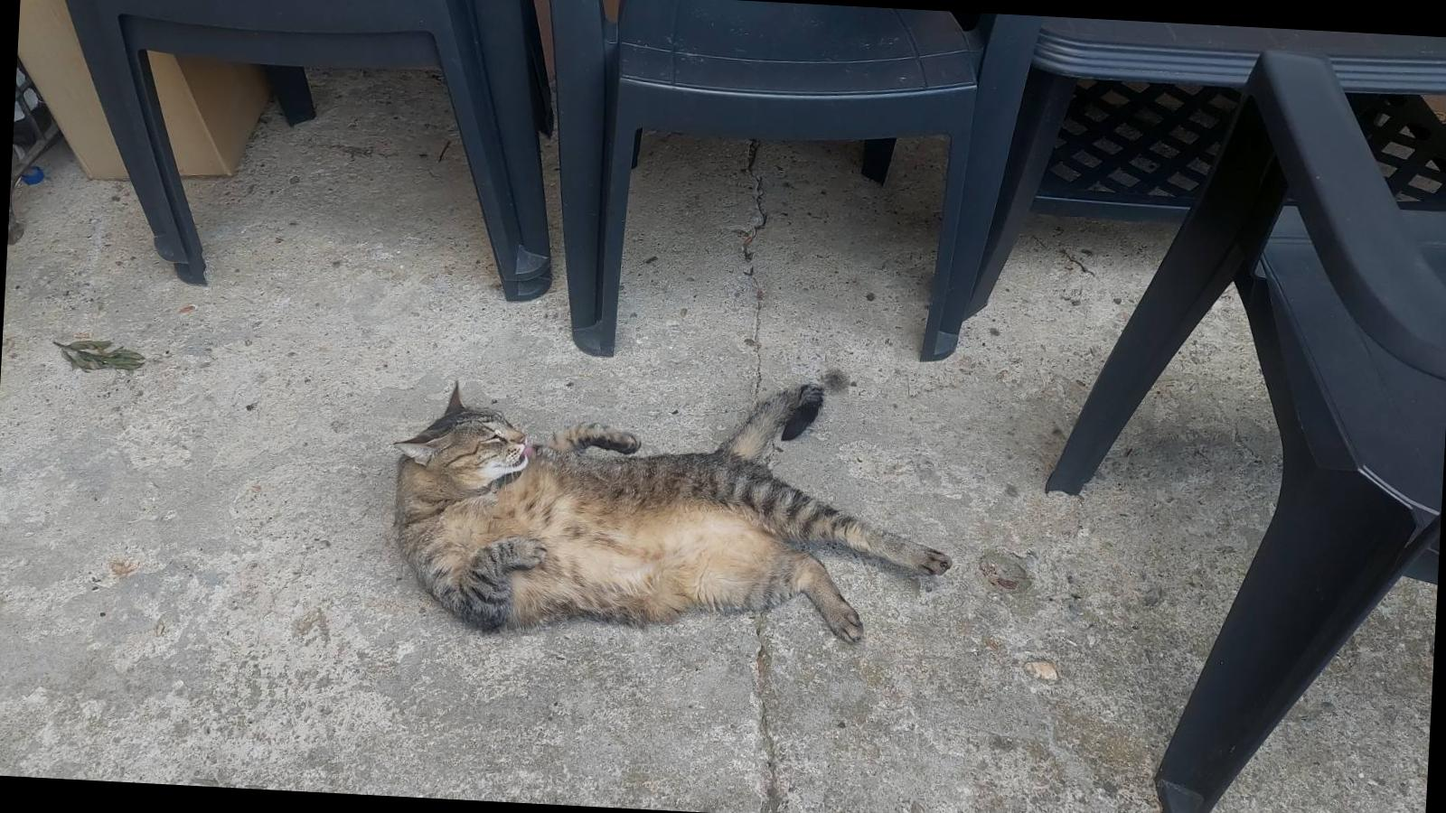macka: (387, 360, 962, 658)
